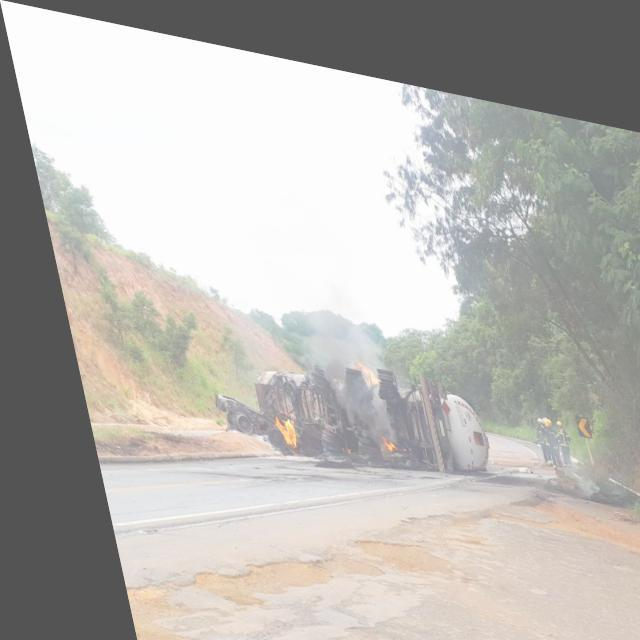Fire: (257, 406, 283, 441), (364, 426, 380, 438)
